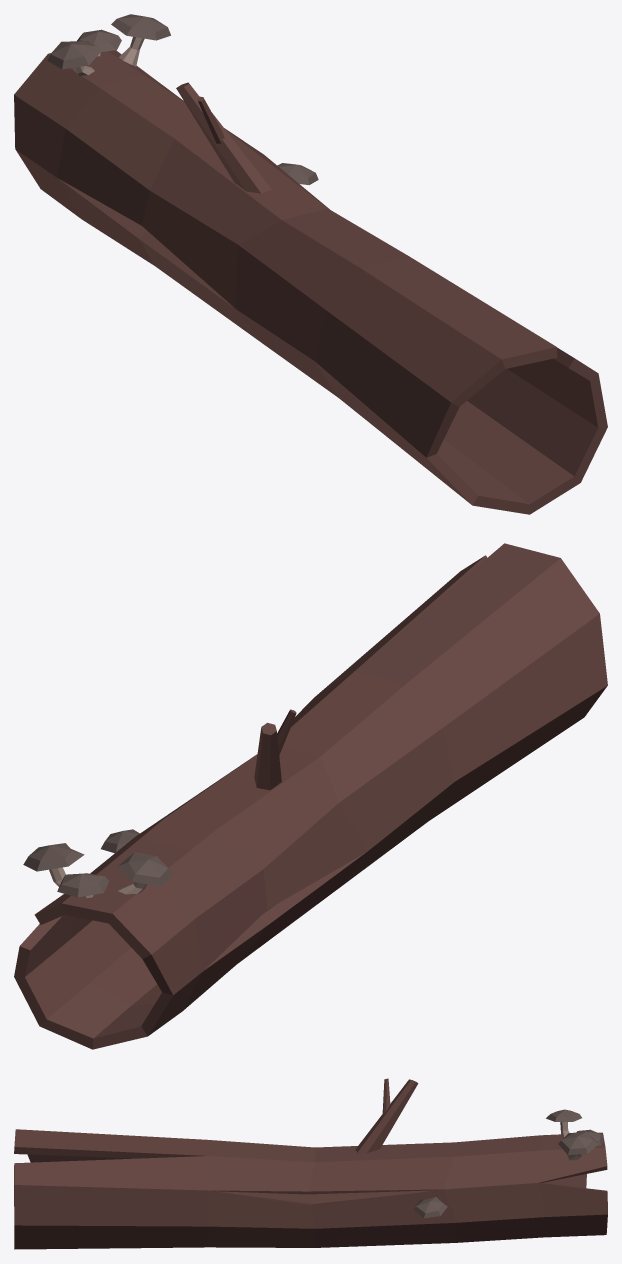
The model's file is WoodLog.glb.
3 renders of one model, top to bottom at view 1: azimuth 30°, elevation 25°; view 2: azimuth 150°, elevation 25°; view 3: azimuth 270°, elevation 25°, orthographic. The views are drawn at different scales.
Visible parts, largest first — view 1: Wood, Mushroom_Top; view 2: Wood, Mushroom_Top; view 3: Wood, Mushroom_Top.
Boxes of the visible parts, x1,y1,x2,y2 form: Wood: [14, 50, 607, 514]; Mushroom_Top: [47, 14, 318, 185]; Wood: [14, 543, 607, 1049]; Mushroom_Top: [23, 829, 172, 897]; Wood: [14, 1078, 607, 1249]; Mushroom_Top: [413, 1109, 603, 1218].
Size of the model in its own units: 0.6329 by 0.7483 by 2.67.
